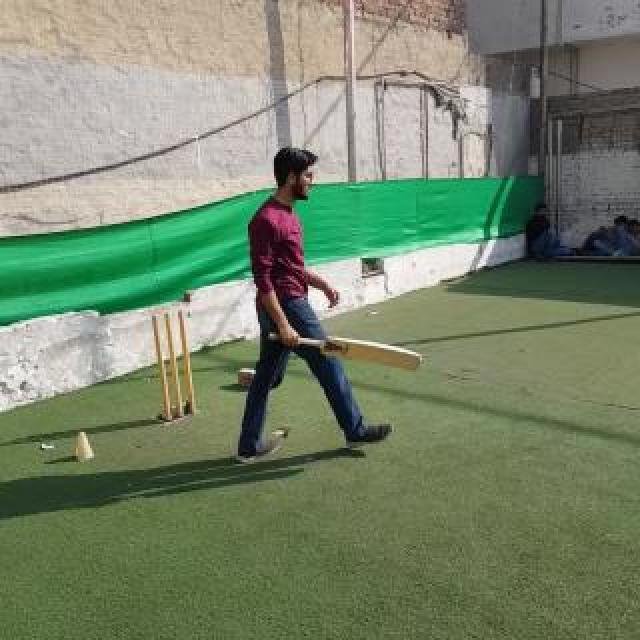bat: (268, 332, 422, 372)
